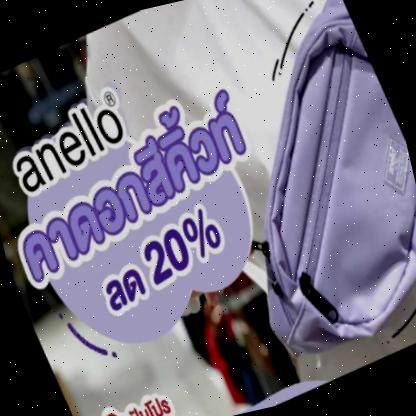bag: (200, 0, 416, 367)
